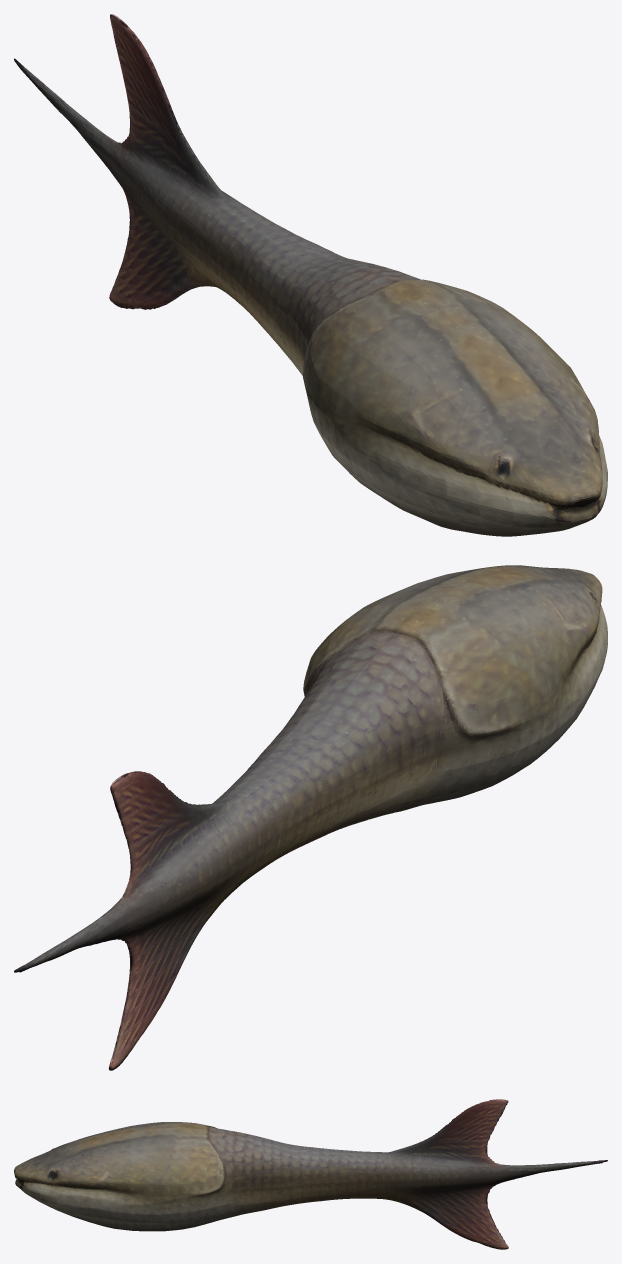
3 renders of one model, top to bottom at view 1: azimuth 30°, elevation 25°; view 2: azimuth 150°, elevation 25°; view 3: azimuth 270°, elevation 25°, orthographic. The views are drawn at different scales.
Visible parts, largest first — view 1: world; view 2: world; view 3: world.
Boxes of the visible parts, <box> form: world: <box>14,14,607,536</box>; world: <box>14,565,607,1070</box>; world: <box>14,1099,607,1249</box>.
Size of the model in its own units: 0.0618 by 0.078 by 0.28.
1 material, 1 textured.
